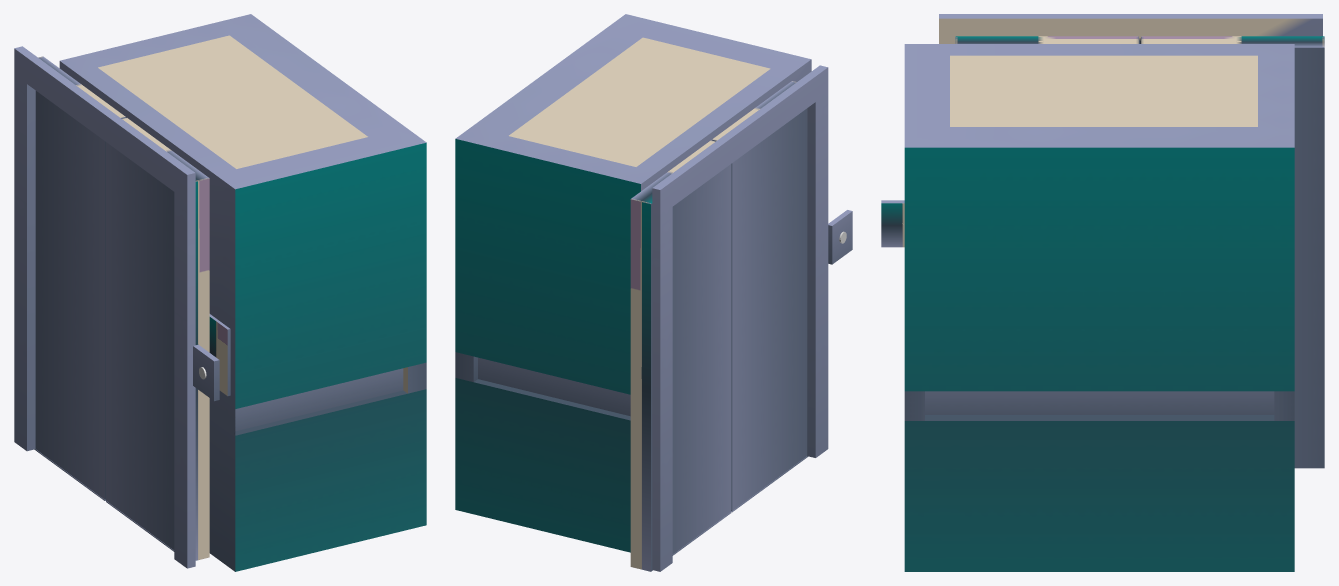
The model's file is Elevator.fbx.
The picture shows the model from 3 angles, left to right: view 1: azimuth 30°, elevation 25°; view 2: azimuth 150°, elevation 25°; view 3: azimuth 270°, elevation 25°; orthographic projection. The views are drawn at different scales.
Parts seen in each view (by area): view 1: Elevator, RightDoor, LeftDoor, ElevatorPanel, OuterPanel; view 2: Elevator, LeftDoor, RightDoor, OuterPanel; view 3: Elevator, LeftDoor, RightDoor, OuterPanel.
Part boxes in pixels (<box>): Elevator: <box>14,14,426,571</box>; RightDoor: <box>106,118,209,560</box>; LeftDoor: <box>34,56,125,500</box>; ElevatorPanel: <box>209,314,230,396</box>; OuterPanel: <box>193,344,219,401</box>; Elevator: <box>455,14,828,571</box>; LeftDoor: <box>630,140,731,571</box>; RightDoor: <box>712,81,808,512</box>; OuterPanel: <box>828,210,852,264</box>; Elevator: <box>904,14,1322,571</box>; LeftDoor: <box>1140,36,1324,468</box>; RightDoor: <box>955,36,1139,43</box>; OuterPanel: <box>881,200,904,247</box>.
Bounding box in the file's own units: 203 × 341 × 313.
